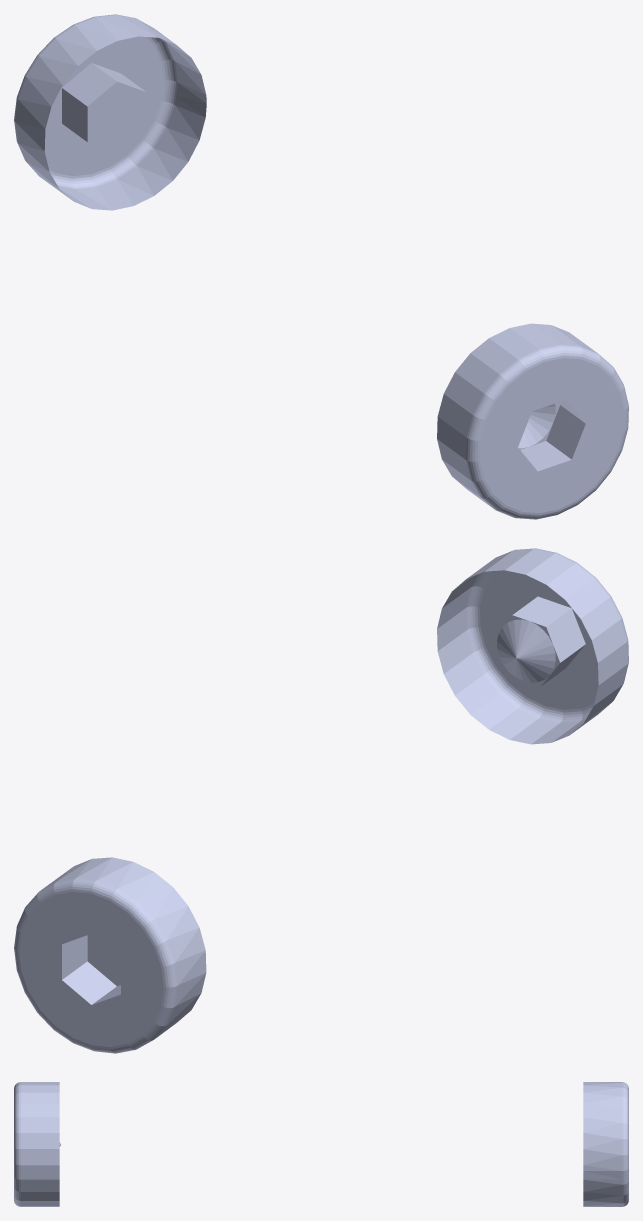
Rendered from left_outer_finger_Defeatured_2F_85_PAD_OPEN_finger2step_01_Defeatured_2F_85_PAD_OPEN_finger2step_1.obj.
The picture shows the model from 3 angles, top to bottom: view 1: azimuth 30°, elevation 25°; view 2: azimuth 150°, elevation 25°; view 3: azimuth 270°, elevation 25°; orthographic projection. The views are drawn at different scales.
Parts seen in each view (by area): view 1: Defeatured_2F_85_PAD_OPEN_finger2step_Periwinkle_Gray; view 2: Defeatured_2F_85_PAD_OPEN_finger2step_Periwinkle_Gray; view 3: Defeatured_2F_85_PAD_OPEN_finger2step_Periwinkle_Gray.
Boxes of the visible parts, box(x1,y1,x2,y2) form: Defeatured_2F_85_PAD_OPEN_finger2step_Periwinkle_Gray: box(14, 14, 628, 519); Defeatured_2F_85_PAD_OPEN_finger2step_Periwinkle_Gray: box(14, 548, 628, 1053); Defeatured_2F_85_PAD_OPEN_finger2step_Periwinkle_Gray: box(14, 1082, 628, 1206).
Size of the model in its own units: 0.0055 by 0.0055 by 0.027.
